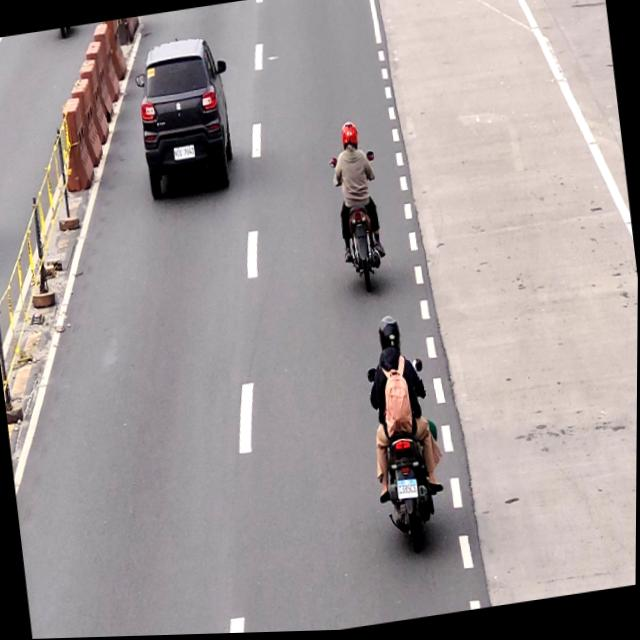Car: (131, 36, 236, 200)
License-Plate: (395, 476, 421, 503), (170, 143, 197, 164)
Motorcycle: (362, 311, 449, 558), (327, 117, 387, 296)
